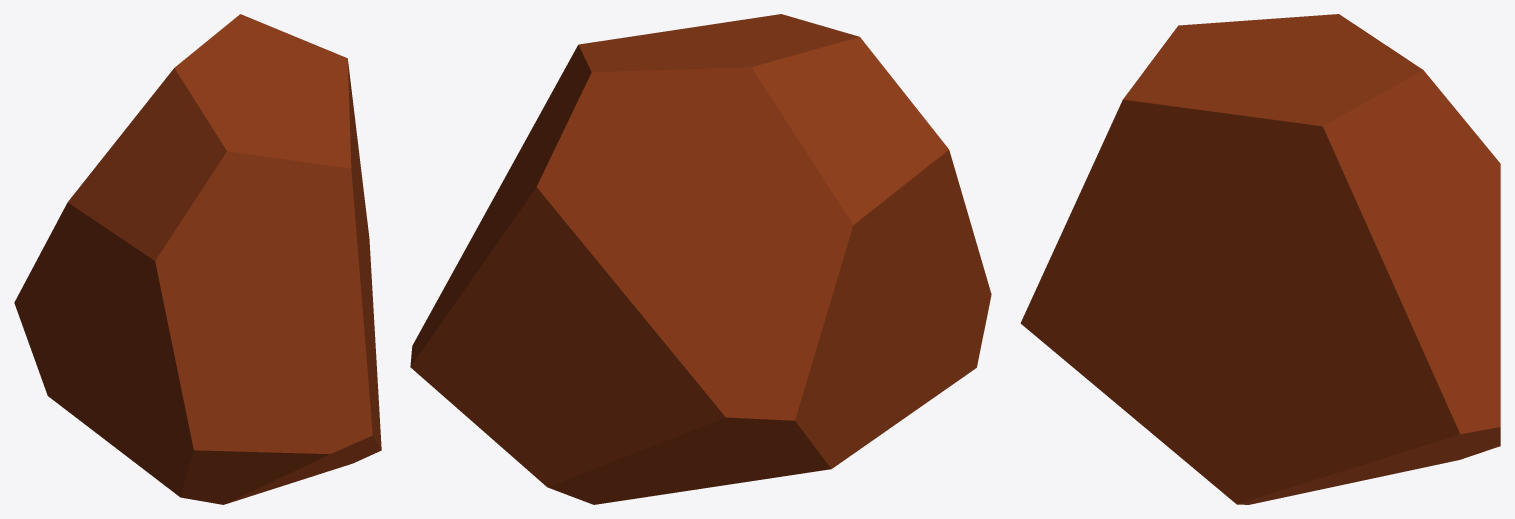
The model's file is LPSciFi_PlanetRock2_002.fbx.
The picture shows the model from 3 angles, left to right: view 1: azimuth 30°, elevation 25°; view 2: azimuth 150°, elevation 25°; view 3: azimuth 270°, elevation 25°; orthographic projection. The views are drawn at different scales.
Parts seen in each view (by area): view 1: PlanetRock2.002; view 2: PlanetRock2.002; view 3: PlanetRock2.002.
Boxes of the visible parts, left/top/right/bottom form: PlanetRock2.002: left=14, top=14, right=381, bottom=504; PlanetRock2.002: left=410, top=14, right=991, bottom=504; PlanetRock2.002: left=1020, top=14, right=1500, bottom=504.
Size of the model in its own units: 207 by 223 by 231.
